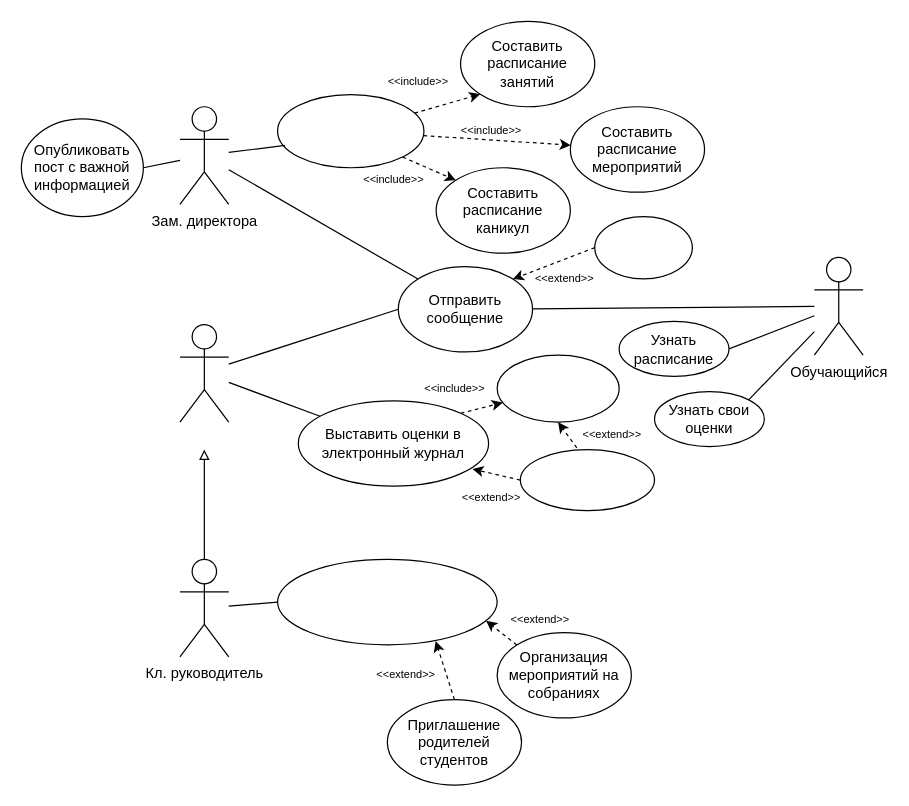
Image size: 909x806. Some labels were removed from this diagram. Each missing label, with the centre of its shape:
"Отправка уведомлений" goes at (x=587, y=479).
"Преподаватель" goes at (x=204, y=372).
"Прикрепить файл" goes at (x=643, y=247).
"Проверка заданий" goes at (x=557, y=388).
"Составить расписание" goes at (x=350, y=130).
"Составить расписание родительских собраний" goes at (x=386, y=601).
